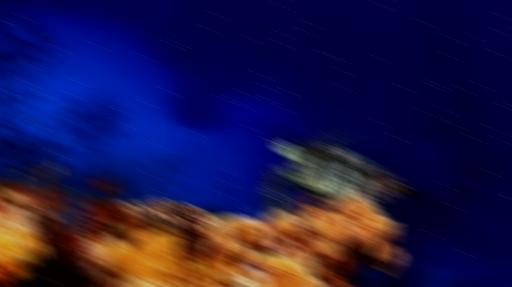Fish: (264, 130, 419, 215)
